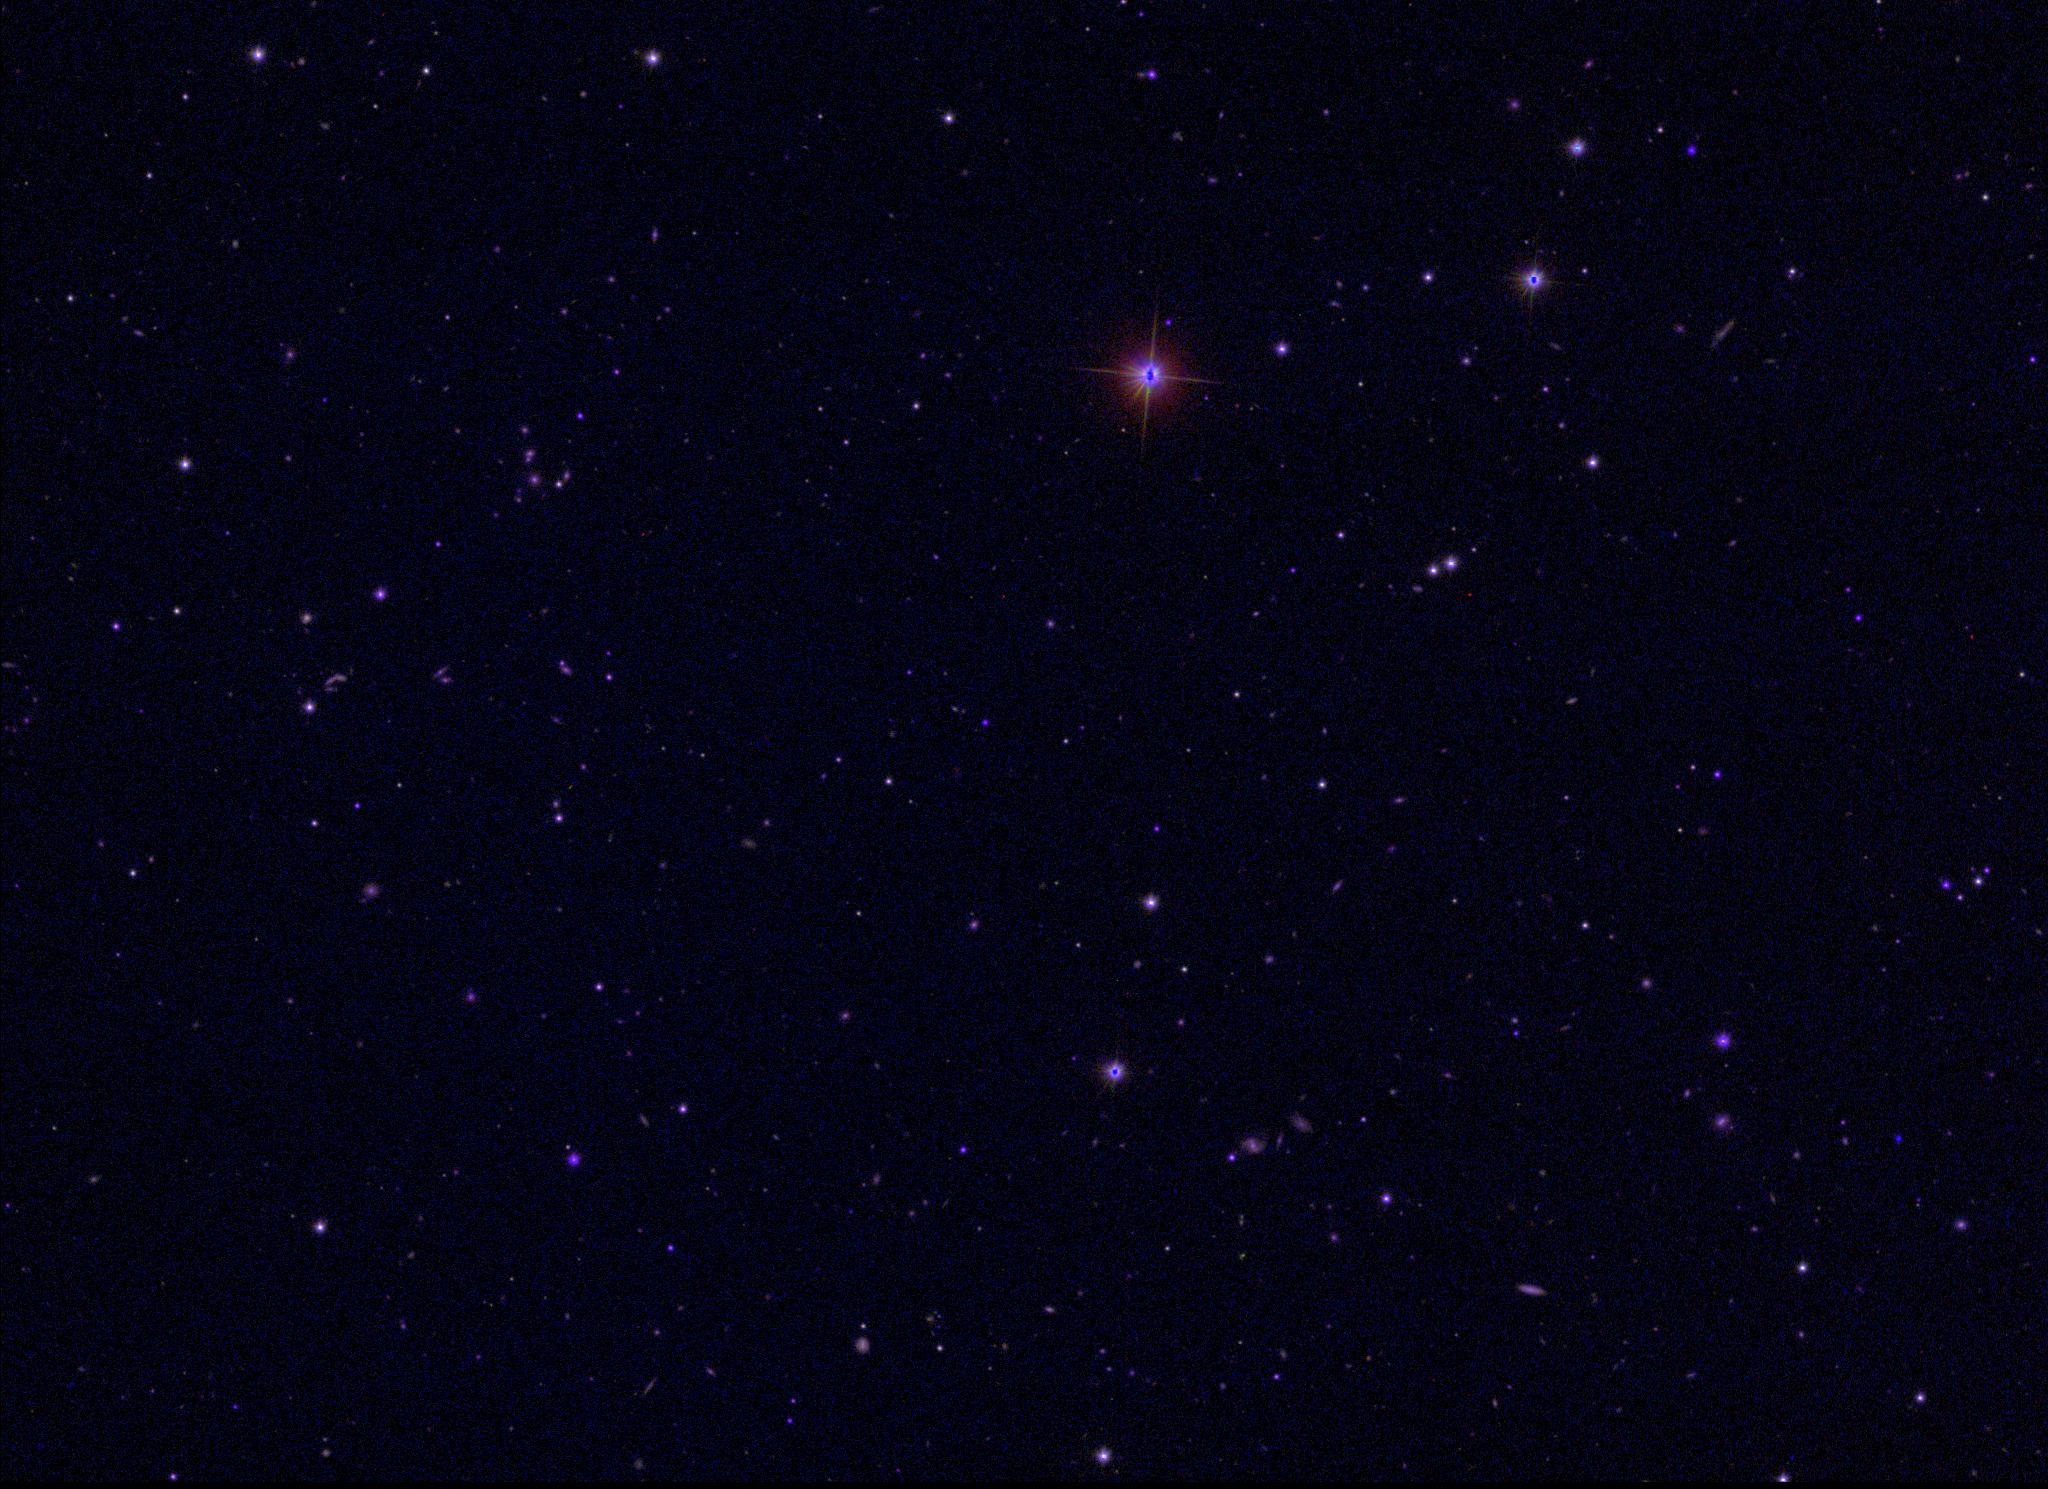L: (1892, 1129, 1906, 1144)
